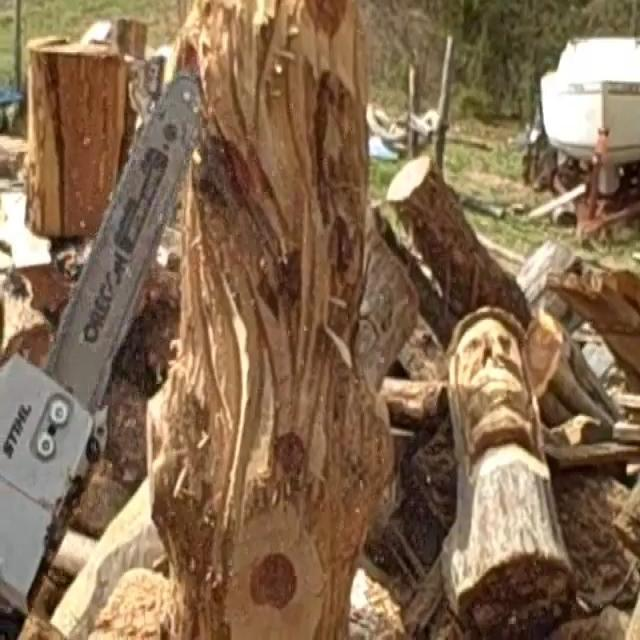Chainsaw: (0, 42, 223, 627)
